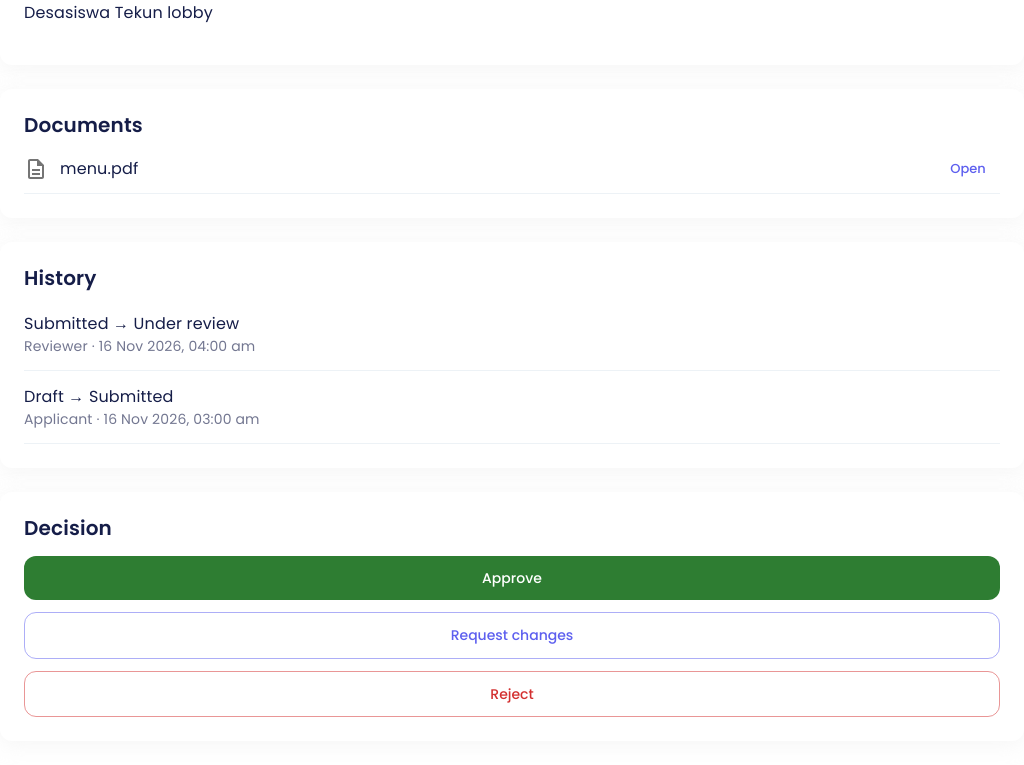
Test: ApplicationDetailPage › shows the database’s reason when a decision is refused
(page scrolled)
Click the button "Approve" at (512, 578), box [24, 556, 1000, 600]
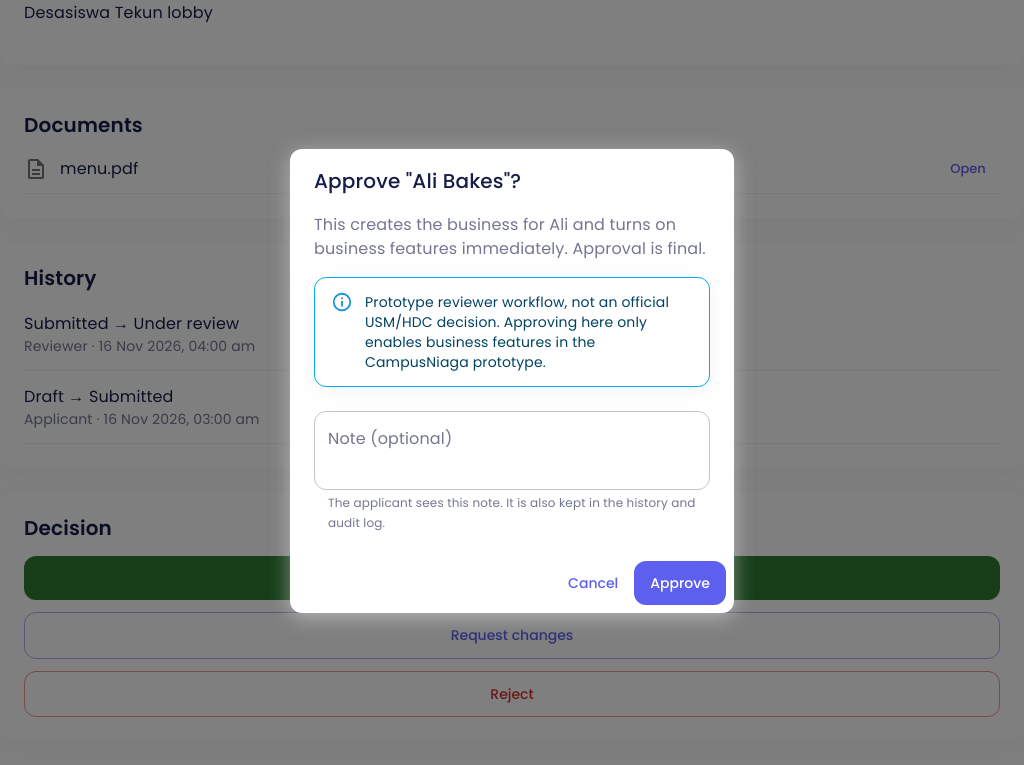
Click the button "Approve" at (680, 583), box [634, 561, 726, 605]
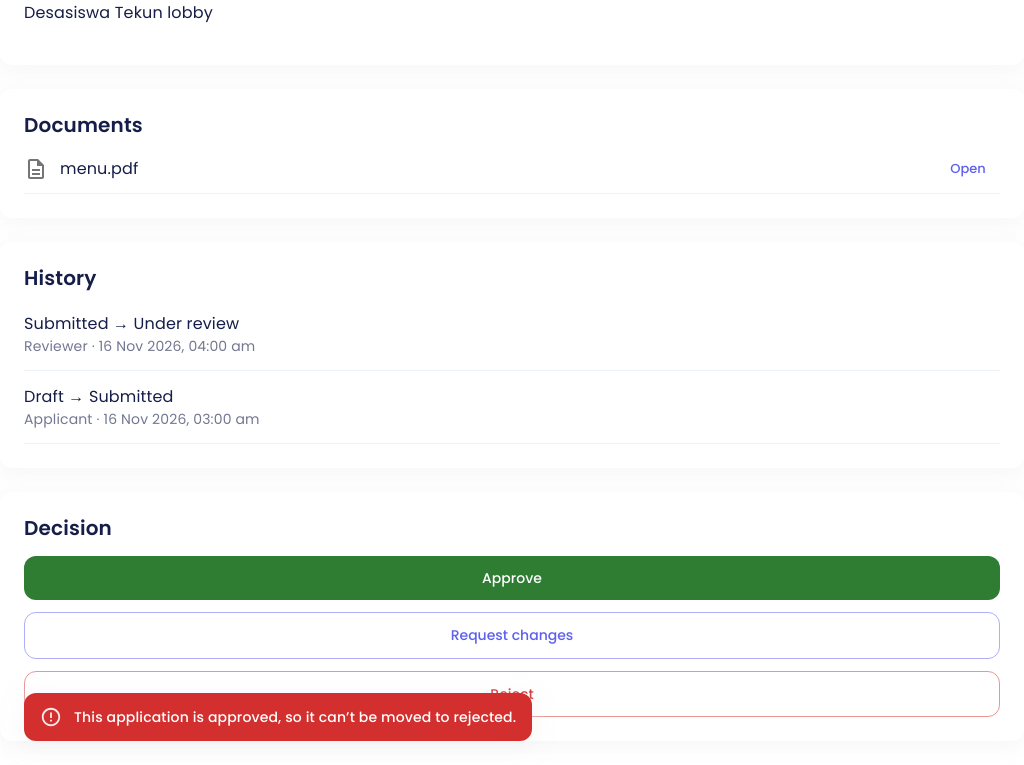
Check: the text "This application is approved, so it can’t be moved to rejected." is shown, box [74, 707, 516, 727]
